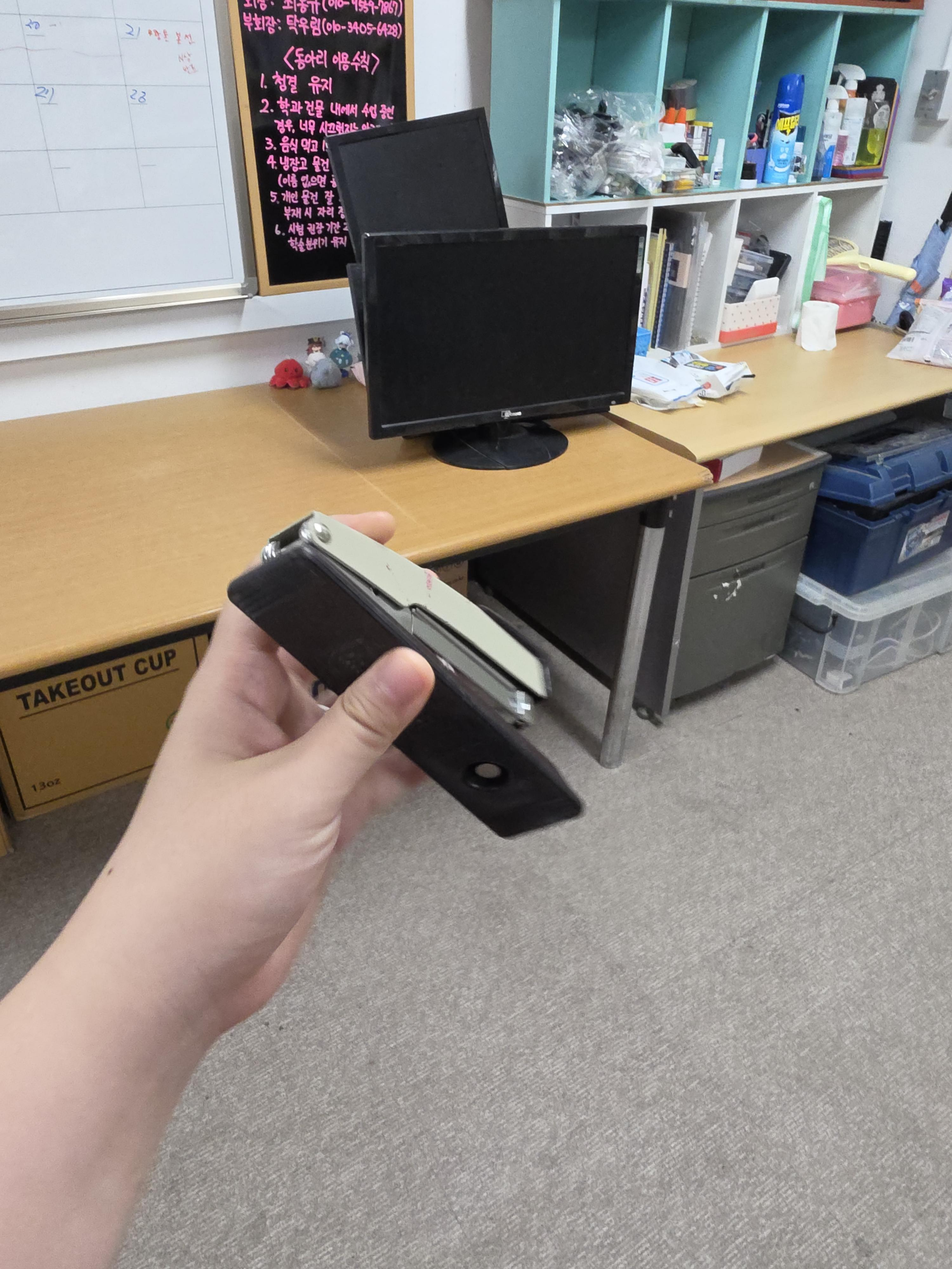stapler: (226, 510, 586, 838)
tissue: (717, 275, 782, 346), (800, 300, 840, 352)
